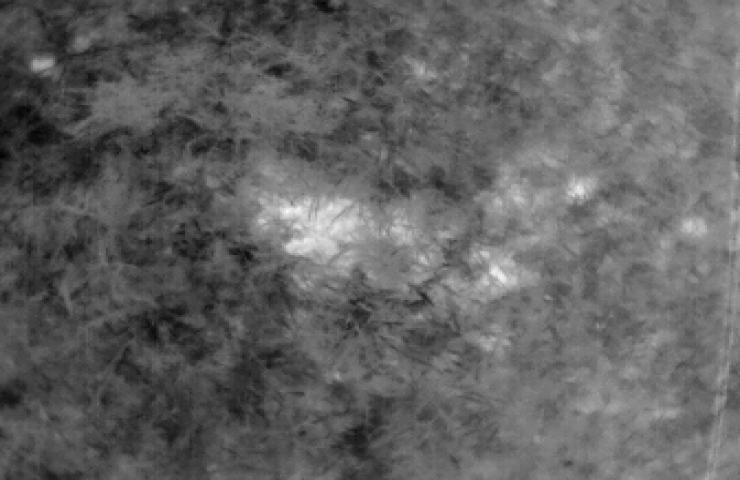landmines: (258, 185, 389, 285)
